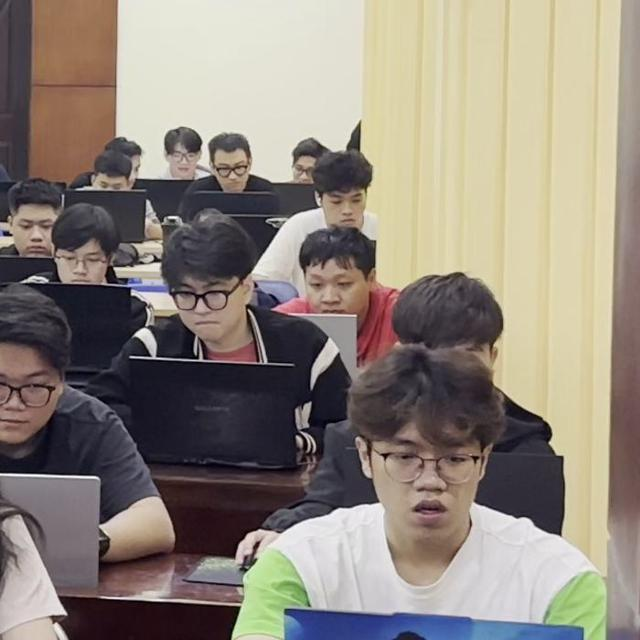Looking away: (365, 365, 490, 532), (0, 288, 78, 444), (163, 242, 246, 338), (295, 235, 369, 318), (48, 218, 114, 295), (310, 163, 377, 229), (13, 183, 70, 254), (210, 144, 252, 199), (163, 128, 202, 176)
